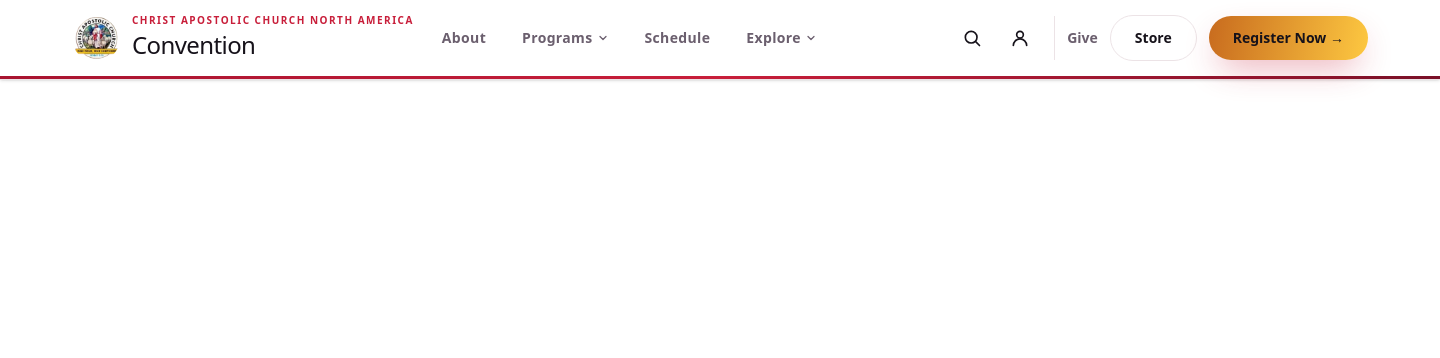
Test: PrimaryNav › Explore dropdown (desktop) › is closed by default and opens to reveal Plan Your Visit, News, Live, Archive, and Contact
Click the button "Explore" at x=782, y=38, box [742, 22, 821, 54]
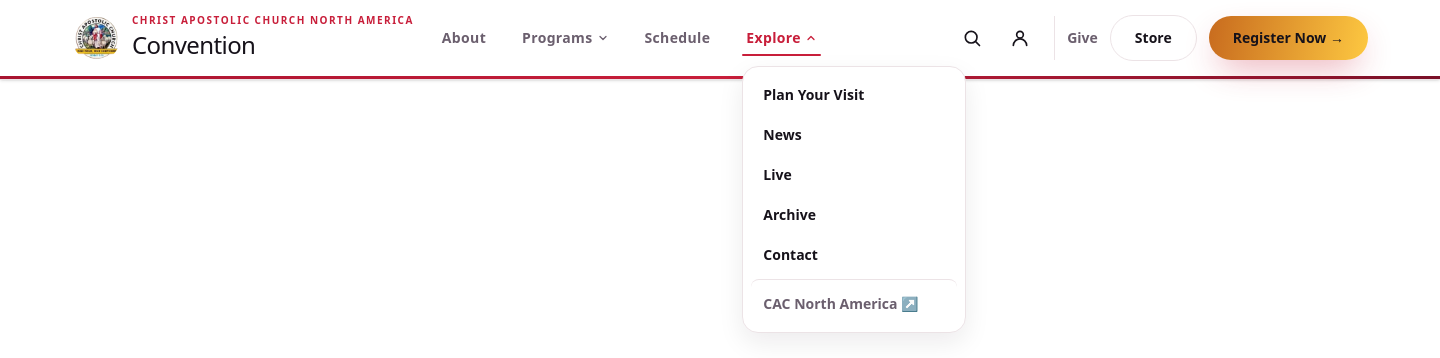
Expected: the button "Explore" is expanded, [742, 22, 821, 54]
Expected: the link "Plan Your Visit" is shown, [763, 85, 864, 104]
Expected: the link "News" is shown, [763, 125, 802, 144]
